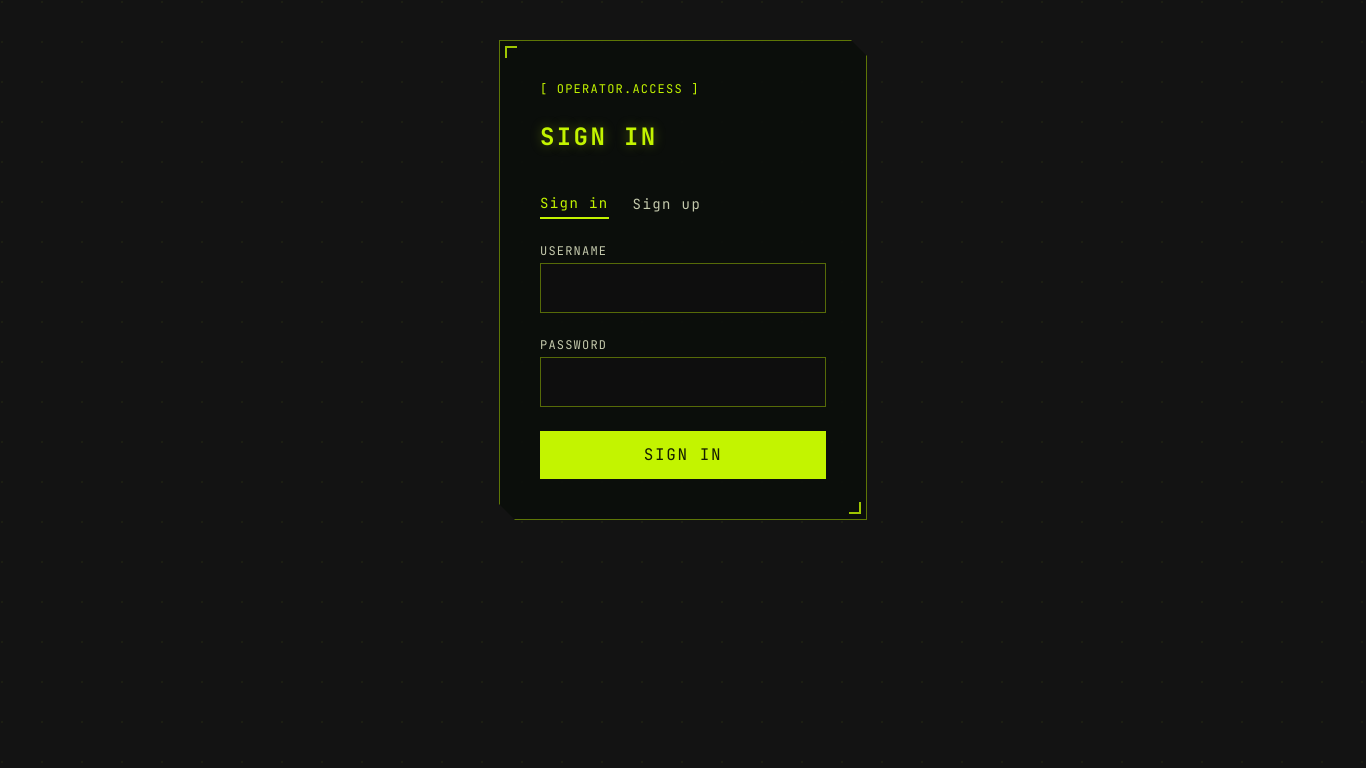
Scenario: /auth route › toggles to Sign up form
What coordinates should you click on to do the following:
click the button "Sign up"
I would click on:
 (667, 206)
Its box is [633, 193, 701, 219].
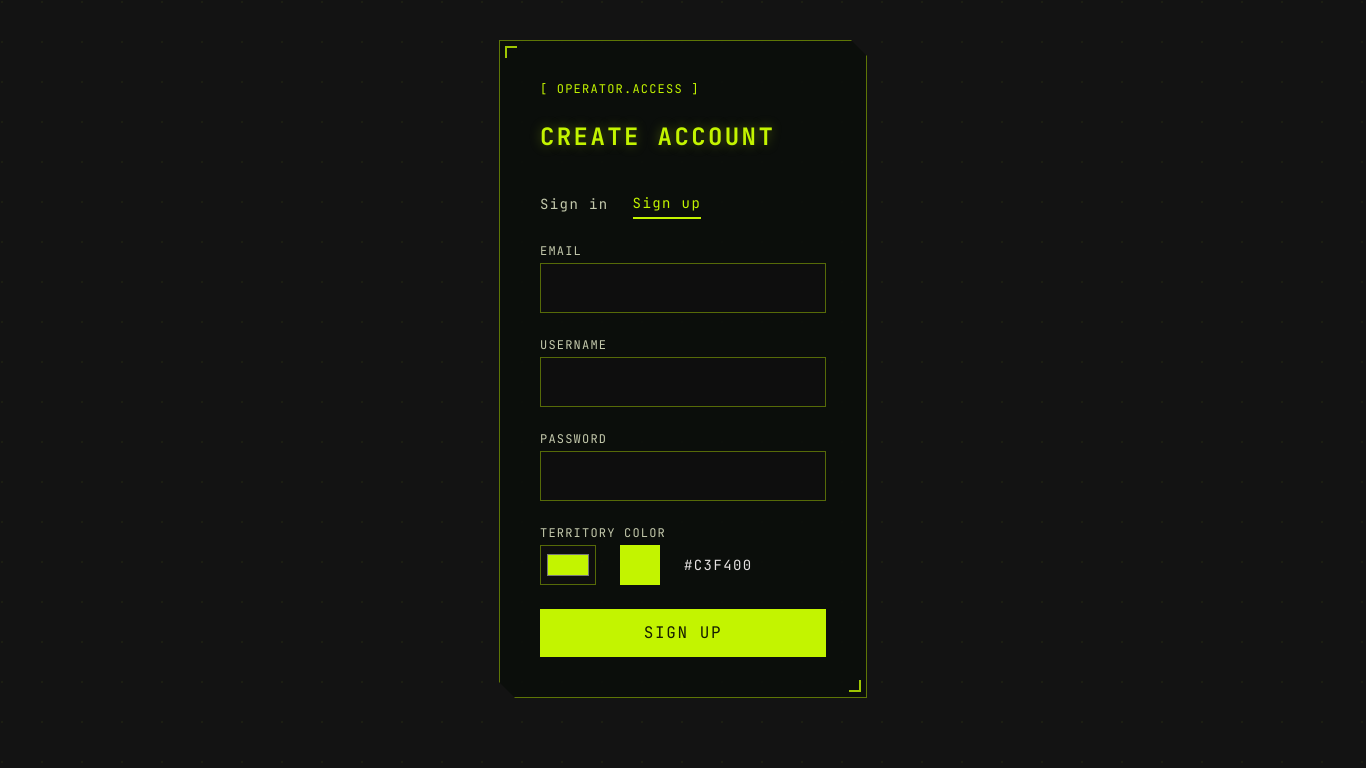
expect the form "Email Username Password Territory color #c3f400 Sign up" is shown: met, box [540, 243, 826, 657]
